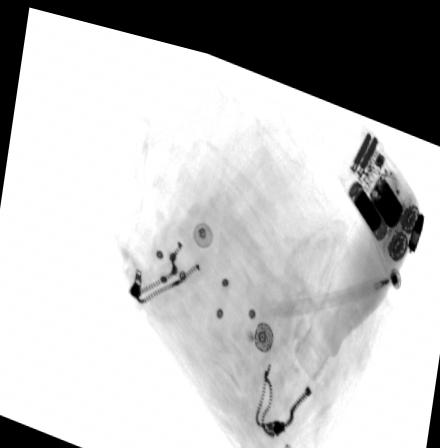Bullet: (405, 189, 424, 233)
